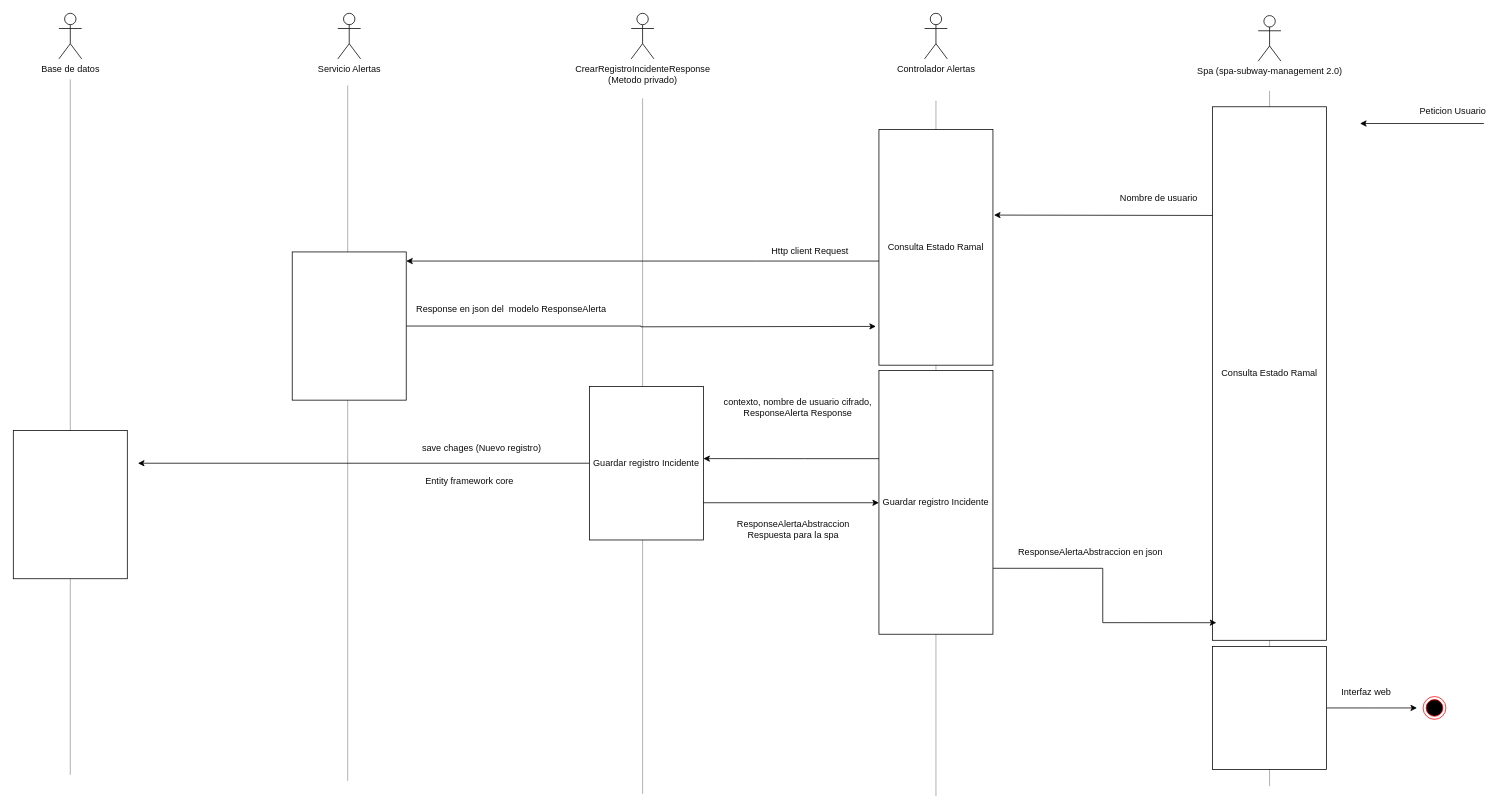
Some shapes in this 1503 by 809 pixel diagram are drawn without their labels. Here are the shapes that lost their labels. From the top down, the centre of each, then its label:
At pixel 348 325: "Gestion alerta ramal".
At pixel 70 504: "Guardado de registro".
At pixel 1269 708: "Gestiona la informacion recibida".
